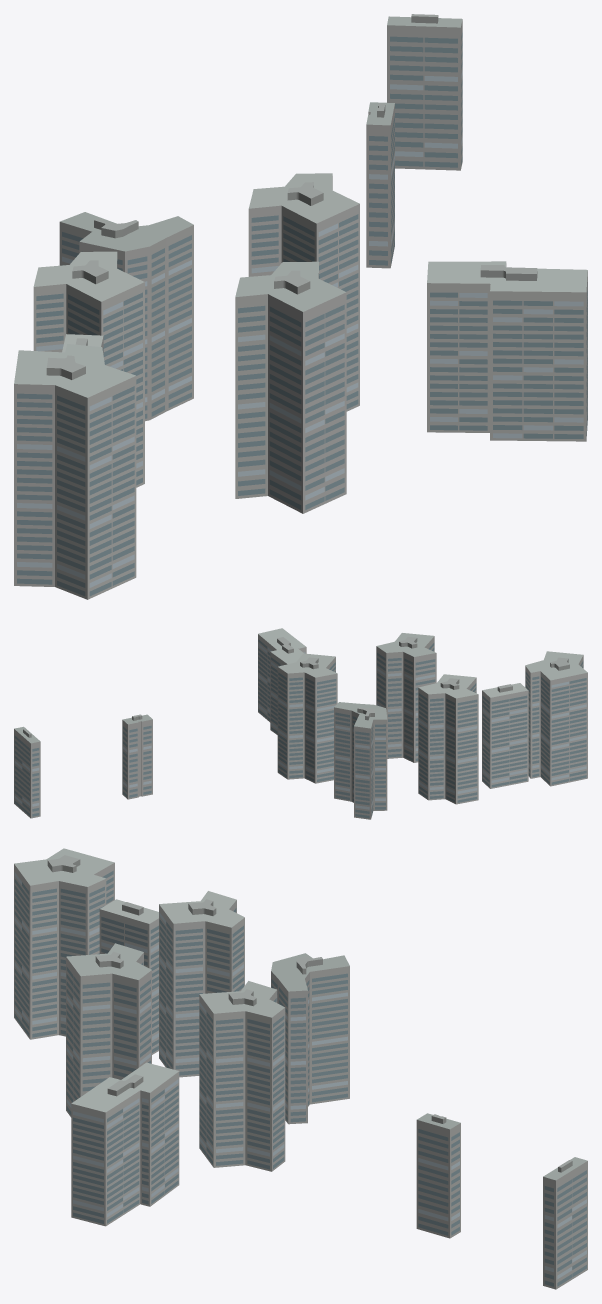
The model's file is apt-a13003005.glb.
3 views of the same model, one above another, from view 1: azimuth 30°, elevation 25°; view 2: azimuth 150°, elevation 25°; view 3: azimuth 270°, elevation 25° (orthographic). The views are drawn at different scales.
Parts seen in each view (by area): view 1: apt-a13003005; view 2: apt-a13003005; view 3: apt-a13003005.
Part boxes in pixels (left/top/right/bottom): apt-a13003005: left=14, top=14, right=587, bottom=599; apt-a13003005: left=14, top=628, right=587, bottom=819; apt-a13003005: left=14, top=848, right=587, bottom=1289.
Bounding box in the file's own units: 258 × 67 × 218.
